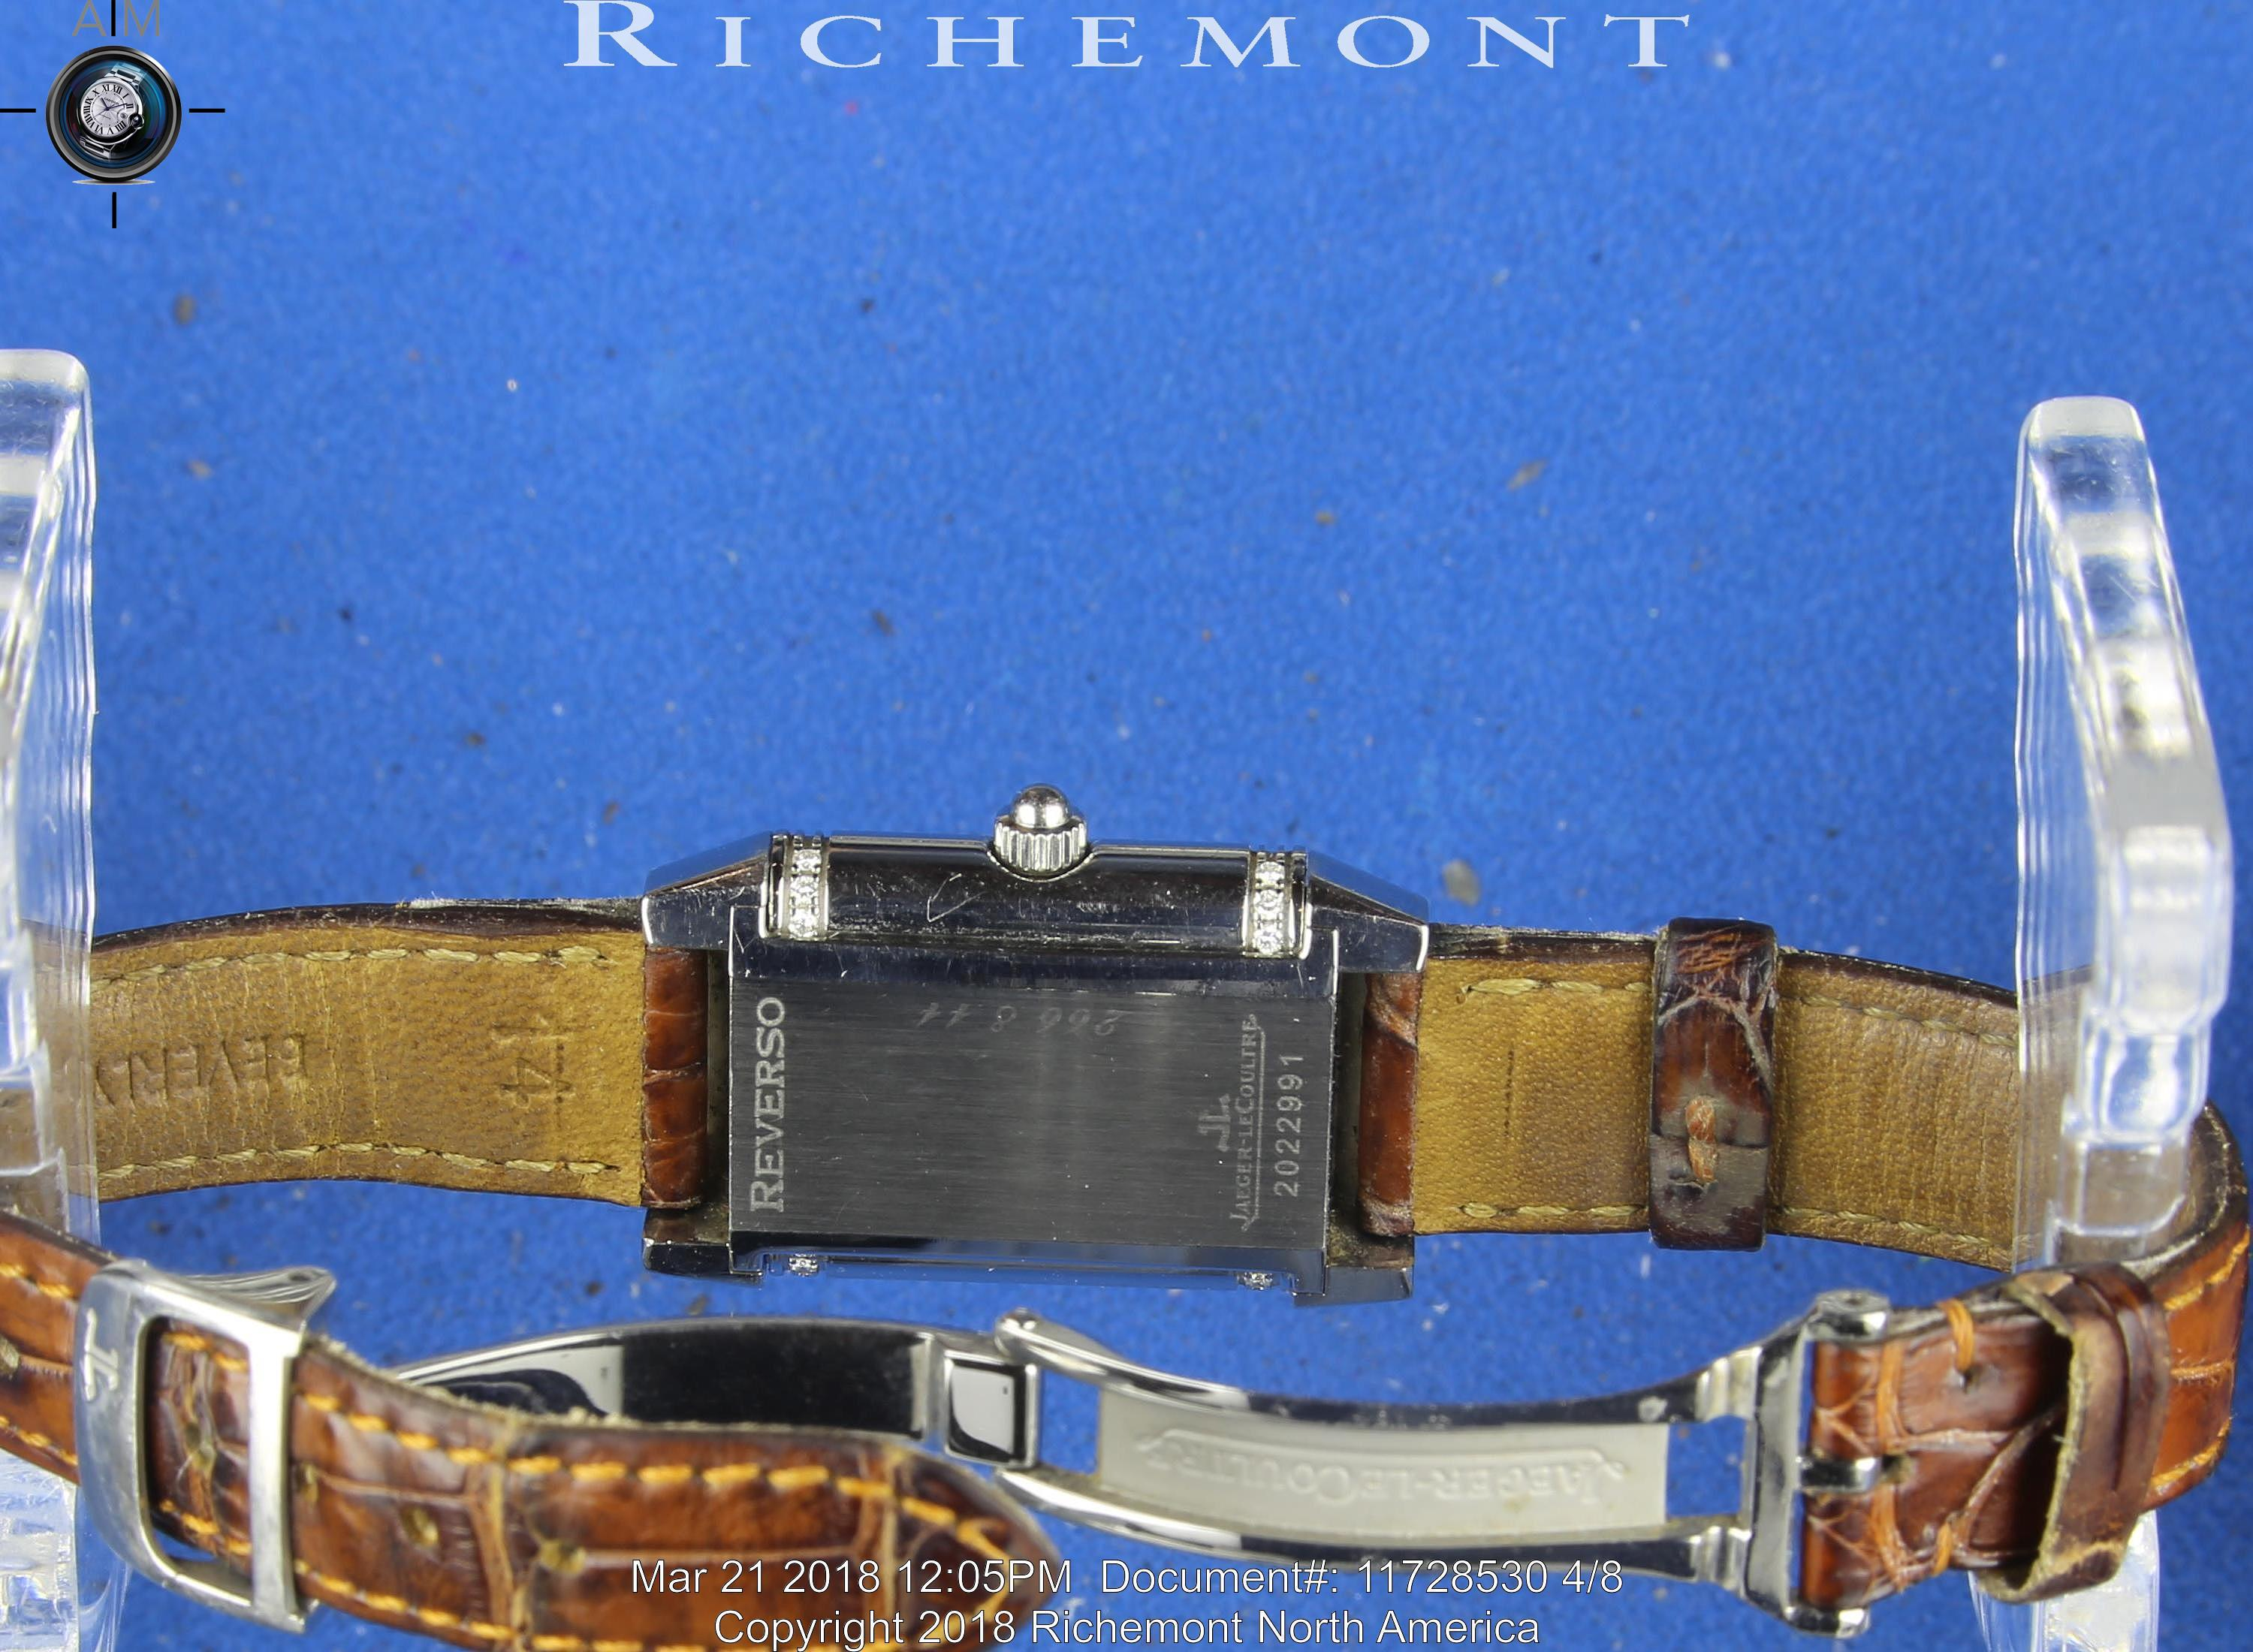Watch Back Case: (624, 788, 1415, 1306)
